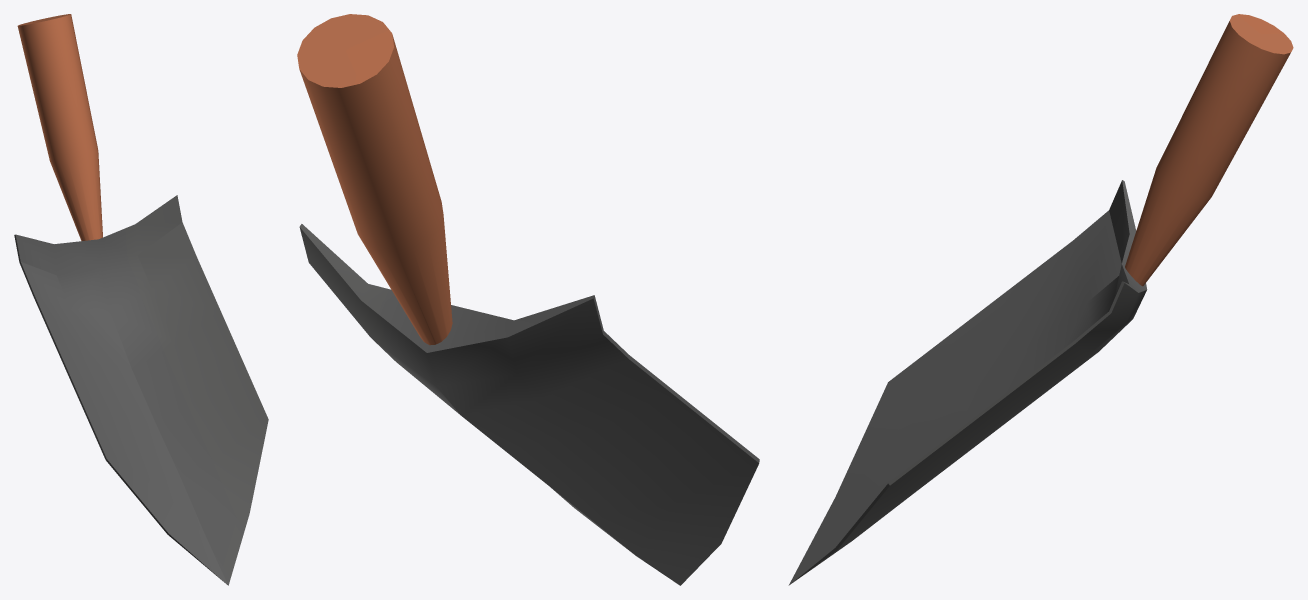
File: schepje.fbx
The picture shows the model from 3 angles, left to right: view 1: azimuth 30°, elevation 25°; view 2: azimuth 150°, elevation 25°; view 3: azimuth 270°, elevation 25°; orthographic projection. The views are drawn at different scales.
Parts seen in each view (by area): view 1: Cylinder; view 2: Cylinder; view 3: Cylinder.
Boxes of the visible parts, x1=… form: Cylinder: x1=14, y1=14, x2=268, y2=585; Cylinder: x1=297, y1=14, x2=759, y2=585; Cylinder: x1=788, y1=14, x2=1293, y2=585.
Bounding box in the file's own units: 0.1565 × 0.4054 × 0.3281.
